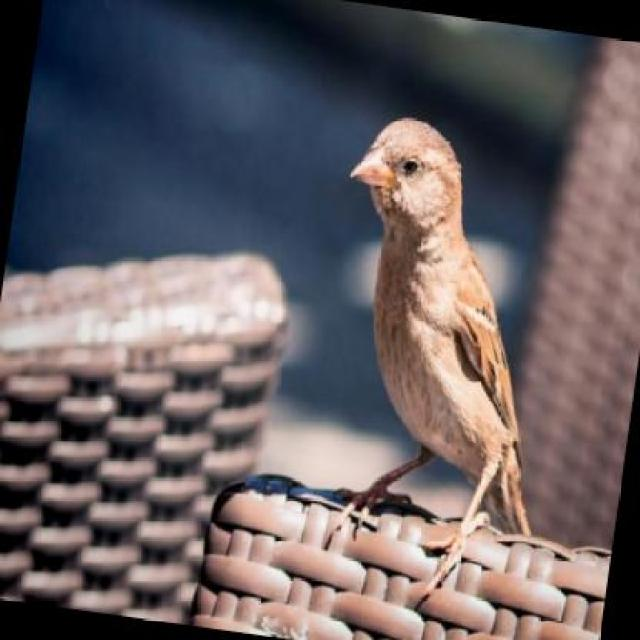sparrow: (300, 108, 582, 528)
